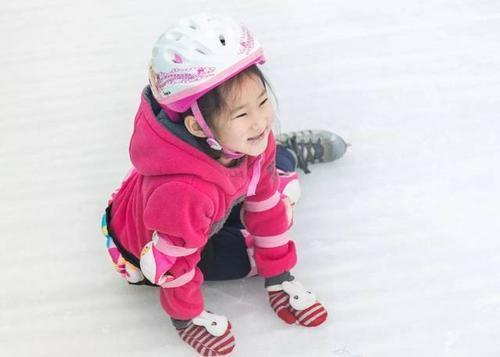Fall-Detected: (81, 0, 357, 350)
